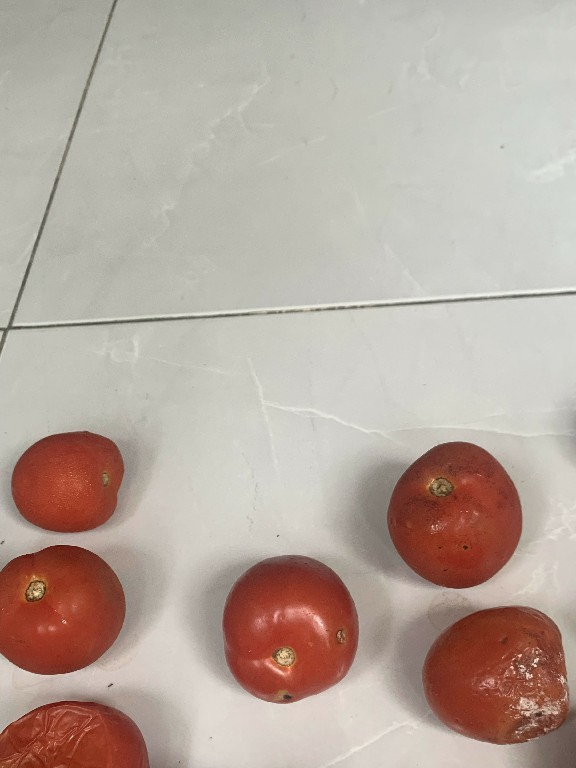NG: (211, 549, 367, 708), (412, 597, 572, 744), (382, 433, 527, 589), (0, 696, 164, 768)
OK: (0, 543, 126, 678), (5, 424, 133, 539)
